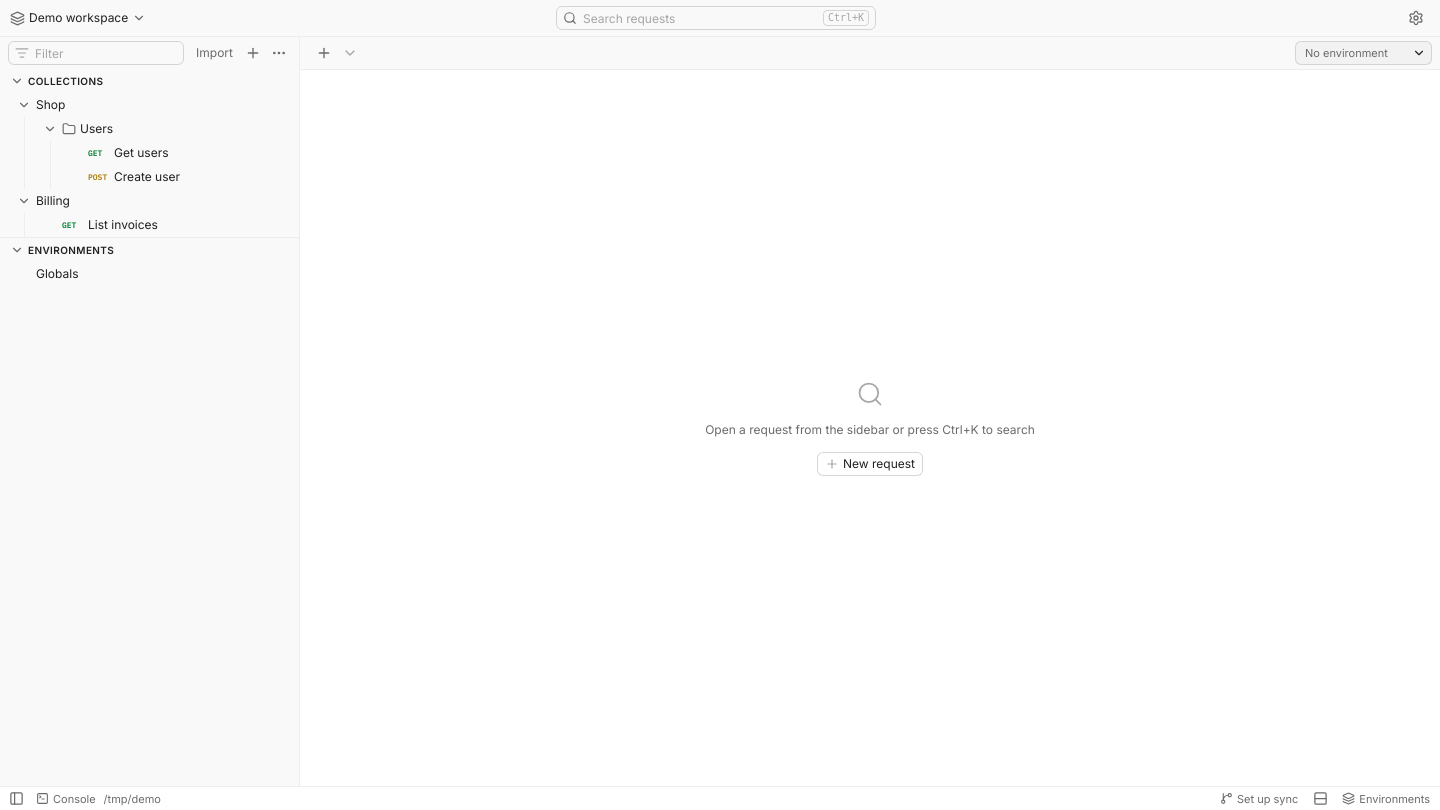
sidebar › collapses sections and remembers it
Click the button "Collections" at [66, 81], box [4, 69, 291, 93]
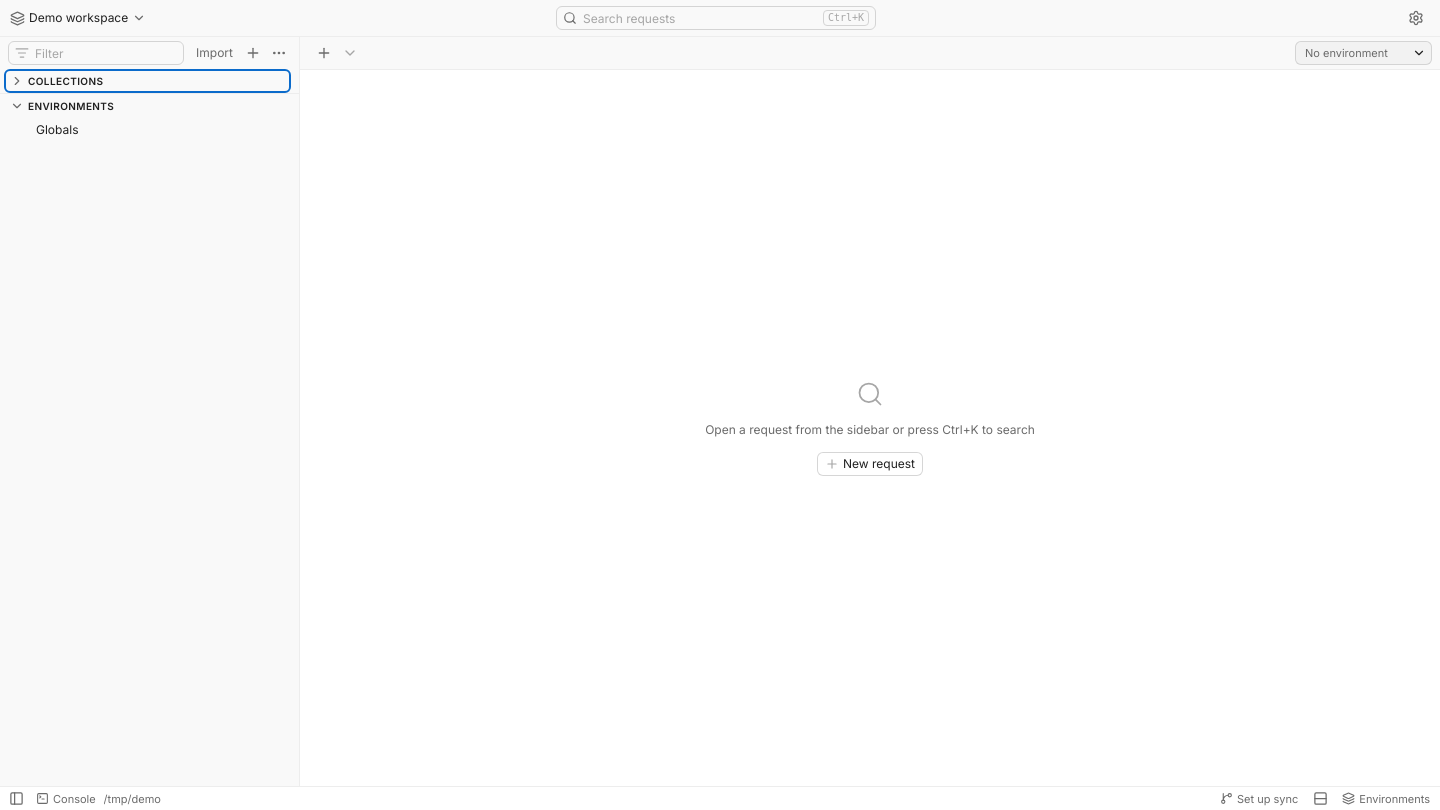
expect the button "Collections" is collapsed: met, box [4, 69, 291, 93]
